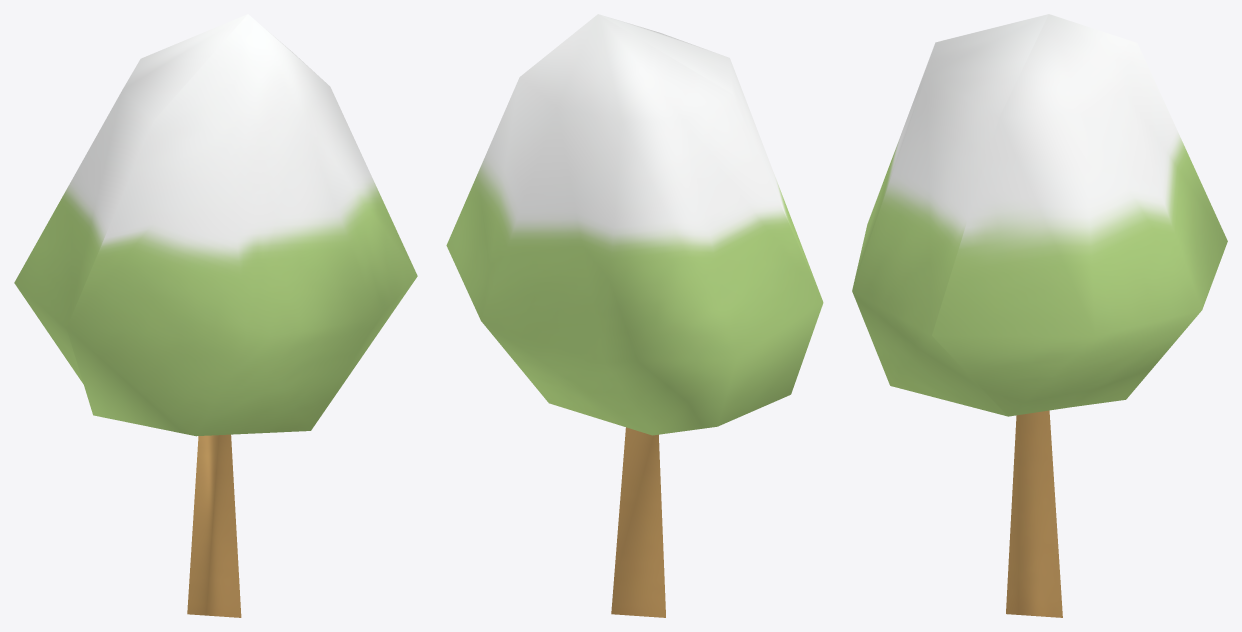
3 renders of one model, left to right at view 1: azimuth 30°, elevation 25°; view 2: azimuth 150°, elevation 25°; view 3: azimuth 270°, elevation 25°, orthographic. The views are drawn at different scales.
Visible parts, largest first — view 1: wLODListvennoe; view 2: wLODListvennoe; view 3: wLODListvennoe.
Boxes of the visible parts, bbox=[...] form: wLODListvennoe: bbox=[14, 14, 417, 617]; wLODListvennoe: bbox=[446, 14, 823, 617]; wLODListvennoe: bbox=[852, 14, 1227, 617].
Size of the model in its own units: 9.06 by 15.31 by 8.49.
1 material, 1 textured.
